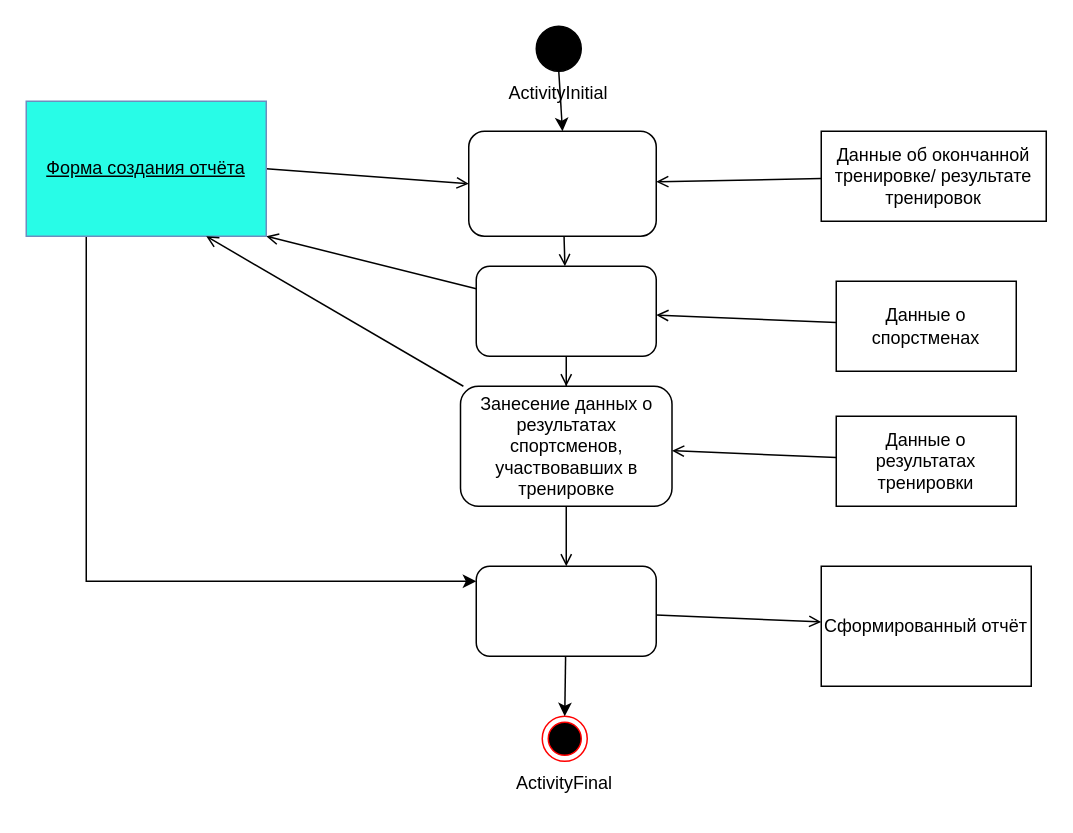
Image size: 1073x833. Some labels were removed from this diagram. Here are the shapes that lost their labels. From the top down, the centre of each, then its label:
At [561,183]: "Формирование формы создания отчёта об окончании тренировки".
At [565,310]: "Занесение данных о спортсменах, участвоваших в тренировке".
At [565,610]: "Формирование отчёта".
